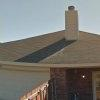Chimney: (58, 2, 82, 47)
